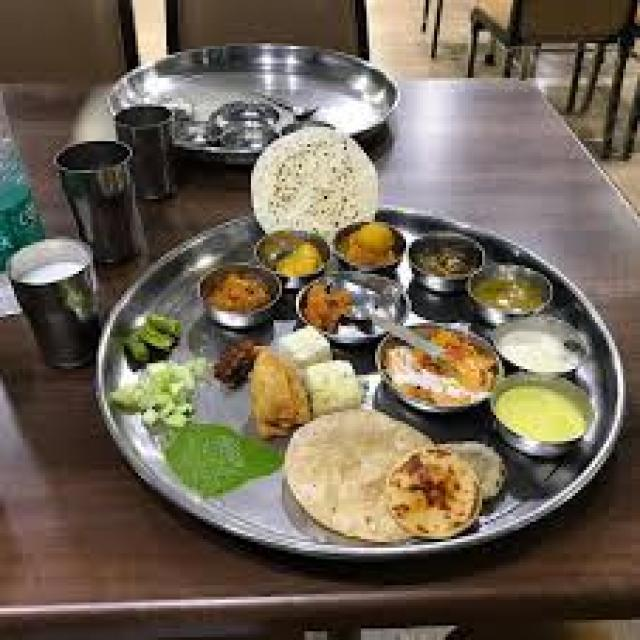dal: (376, 315, 504, 414), (489, 375, 604, 450), (464, 263, 567, 320), (196, 262, 281, 320), (412, 237, 486, 287)
papad: (285, 408, 439, 541), (250, 126, 384, 235)
roti: (277, 408, 497, 545), (249, 124, 379, 241)
